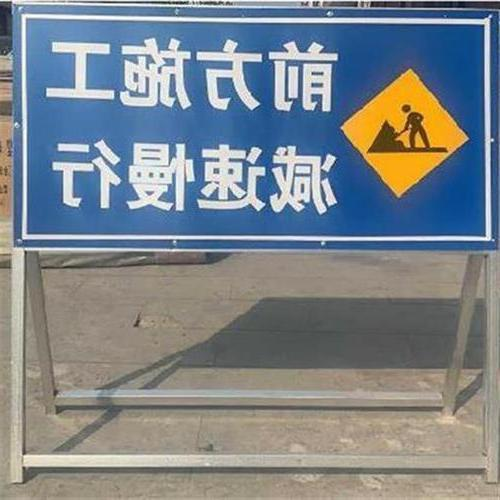sign: (20, 11, 494, 244)
